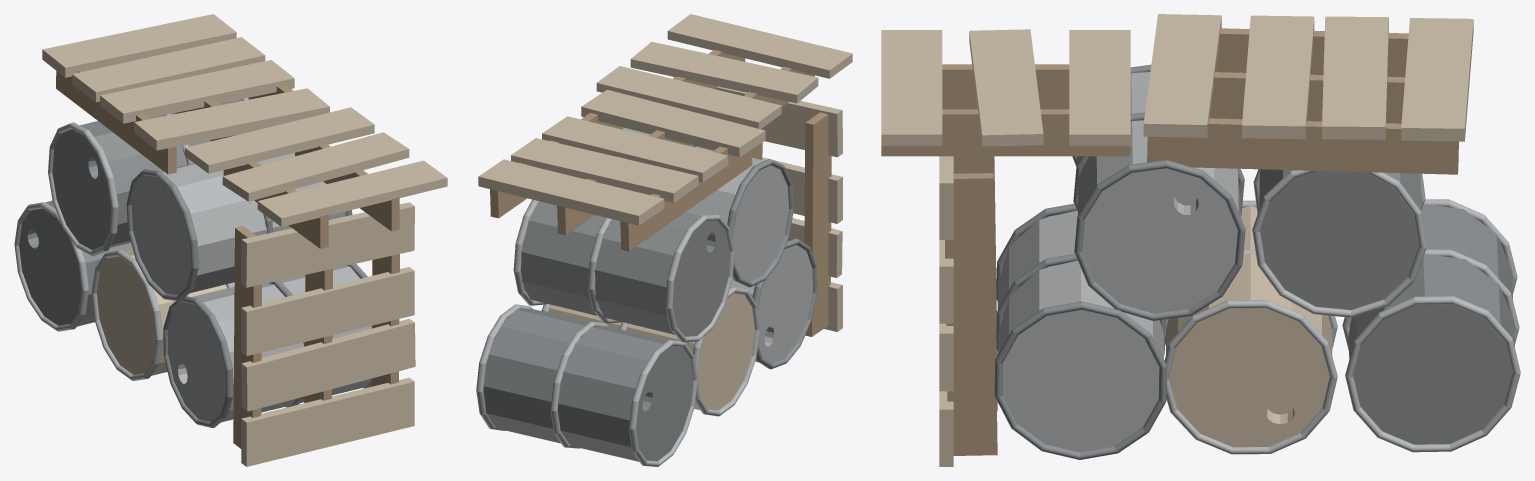
Rendered from barrel1.glb.
3 views of the same model, side by side, from view 1: azimuth 30°, elevation 25°; view 2: azimuth 150°, elevation 25°; view 3: azimuth 270°, elevation 25° (orthographic). The views are drawn at different scales.
Visible parts, largest first — view 1: Mesh_Mesh_head_geo.001_lambert2SG.001; view 2: Mesh_Mesh_head_geo.001_lambert2SG.001; view 3: Mesh_Mesh_head_geo.001_lambert2SG.001.
Boxes of the visible parts, x1,y1,x2,y2 form: Mesh_Mesh_head_geo.001_lambert2SG.001: (14, 14, 447, 466); Mesh_Mesh_head_geo.001_lambert2SG.001: (476, 14, 852, 466); Mesh_Mesh_head_geo.001_lambert2SG.001: (881, 14, 1520, 466).
Size of the model in its own units: 0.00429 by 0.0057 by 0.00961.
